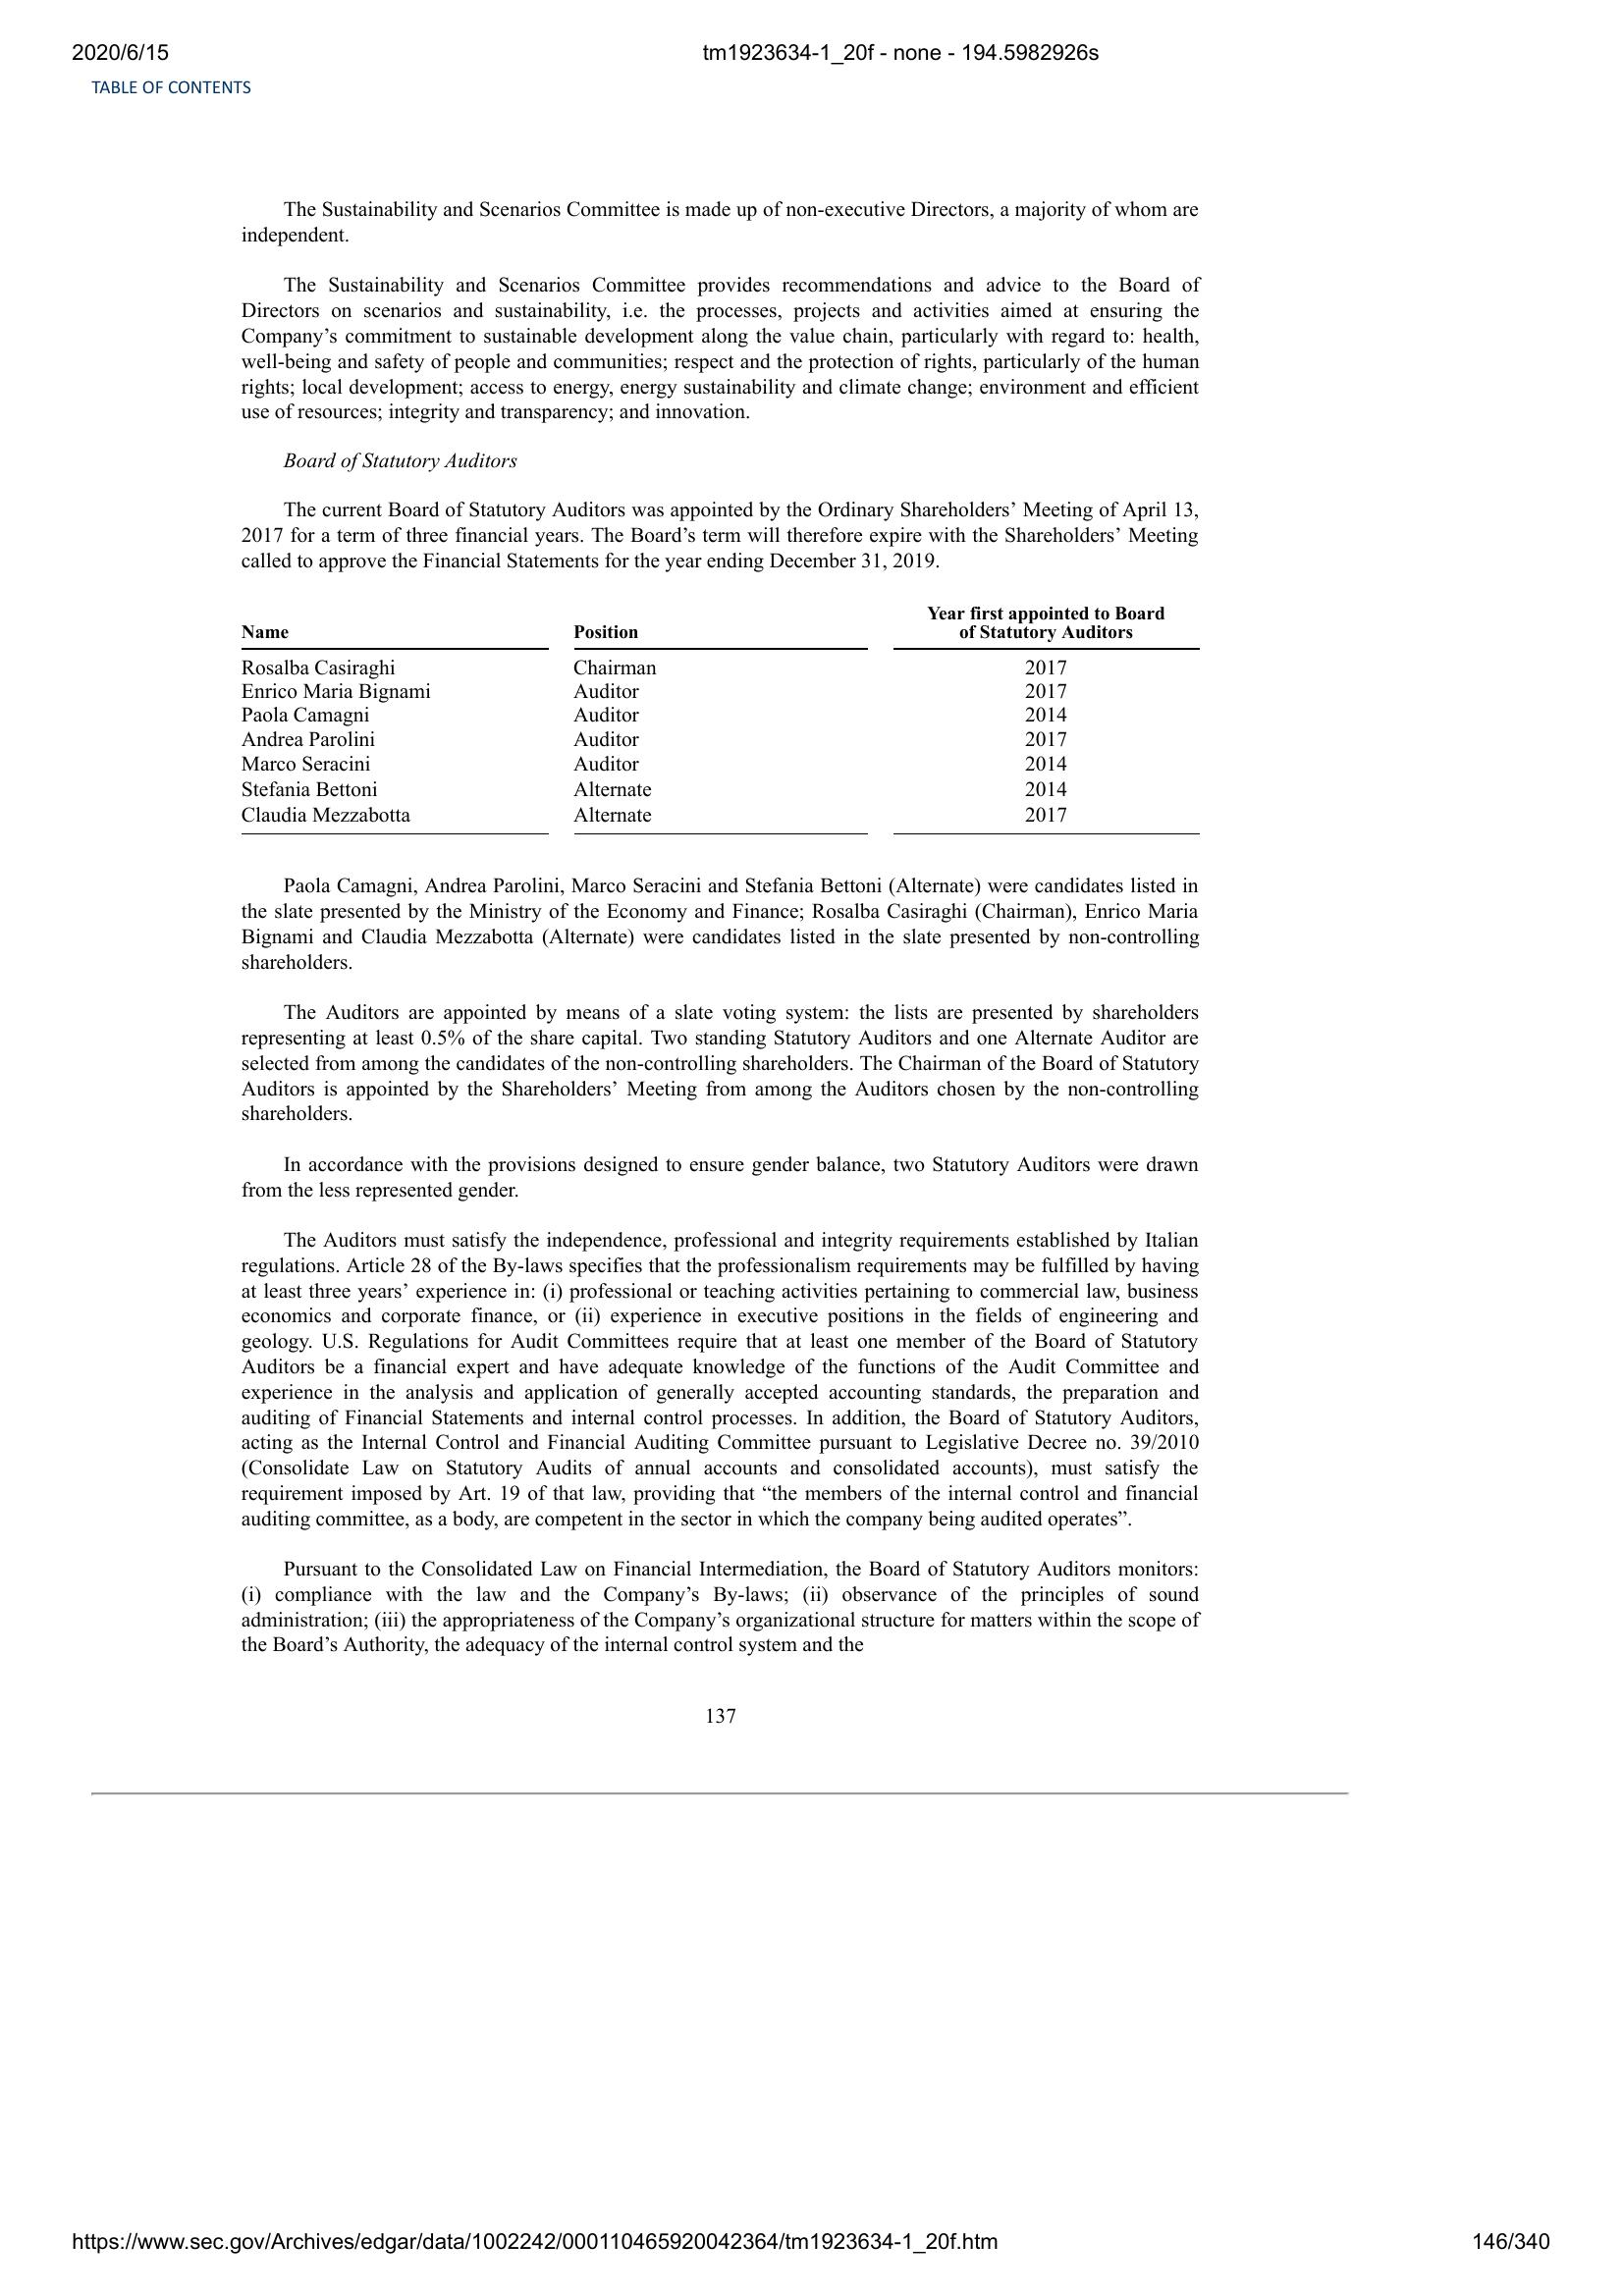table: (235, 600, 1203, 839)
